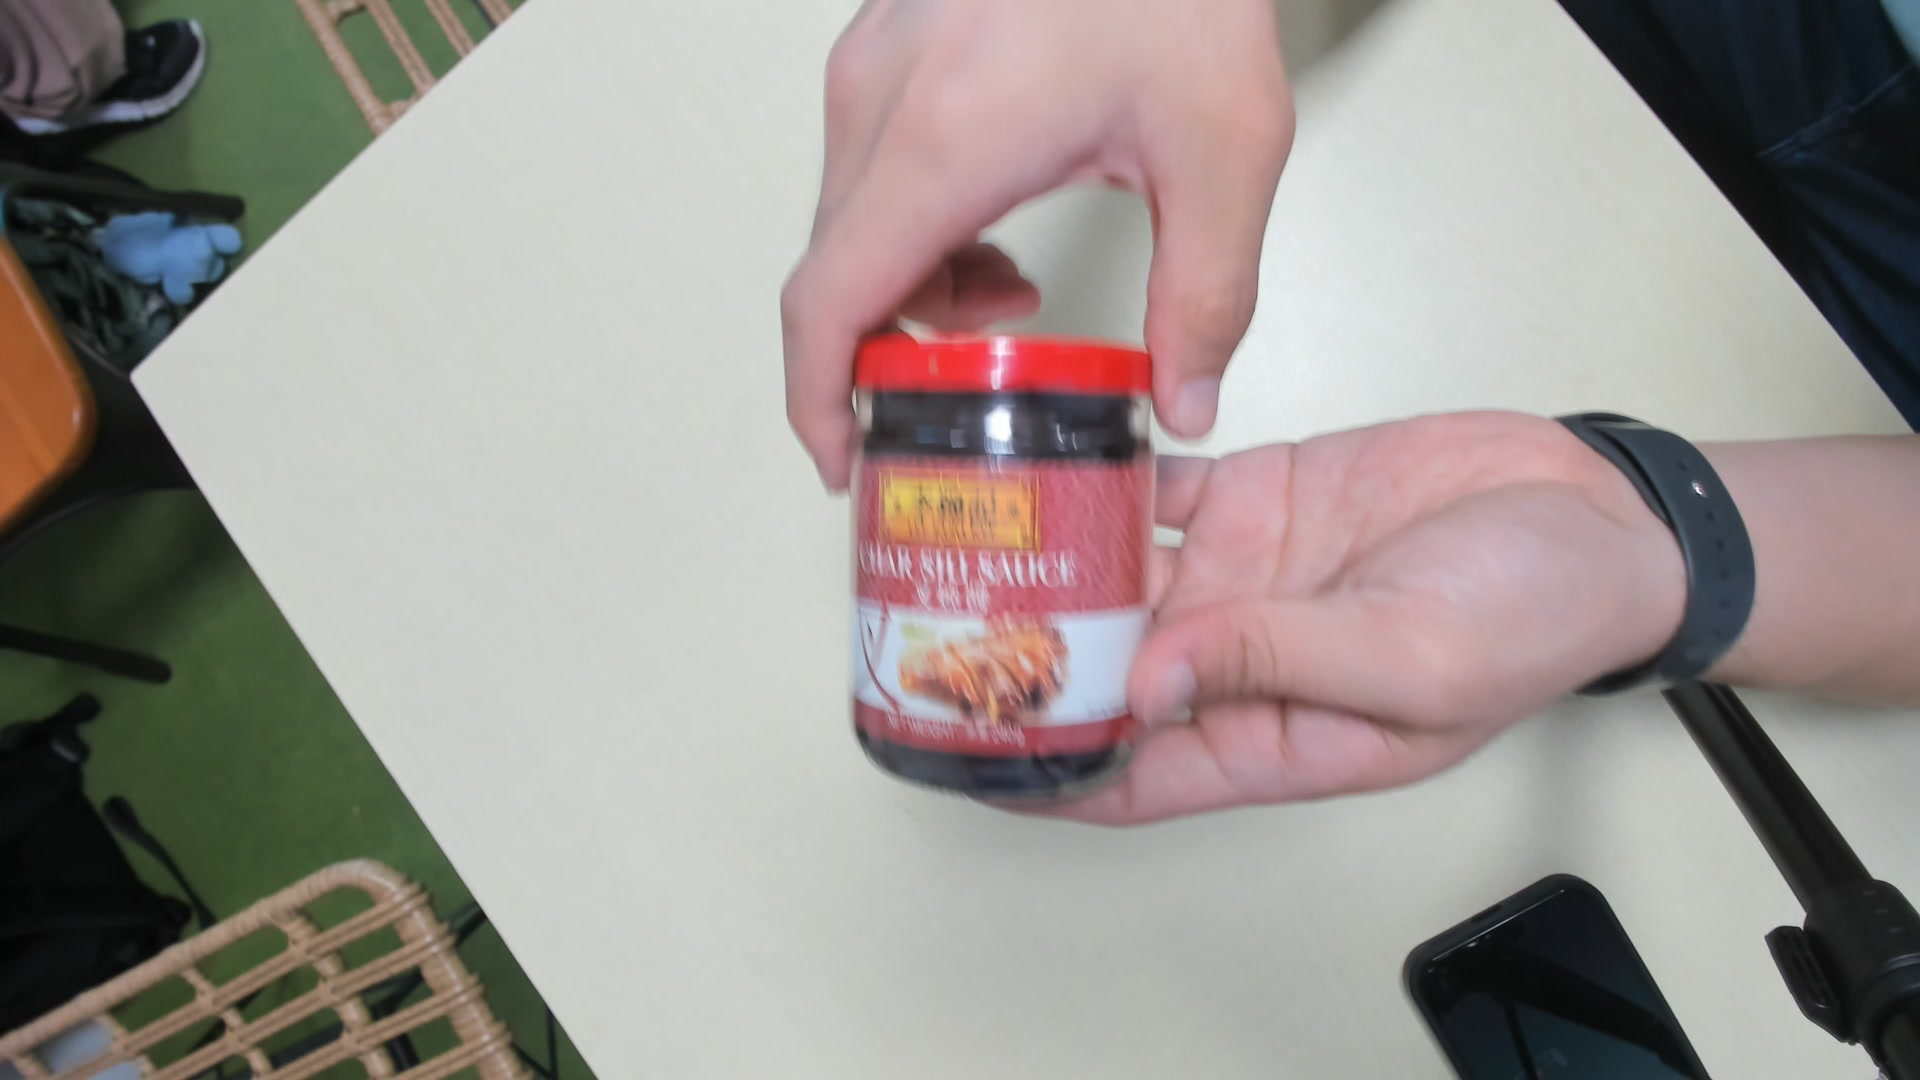OtherSauceDressing_200-299g_NonHalal_NonHealthy: (843, 330, 1149, 802)
